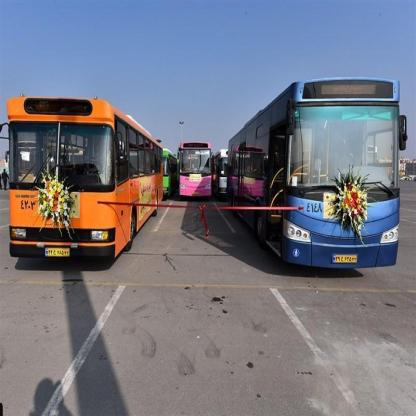Bus: (228, 75, 398, 269), (2, 96, 163, 272), (177, 138, 216, 197), (162, 144, 178, 198), (220, 148, 228, 193)
